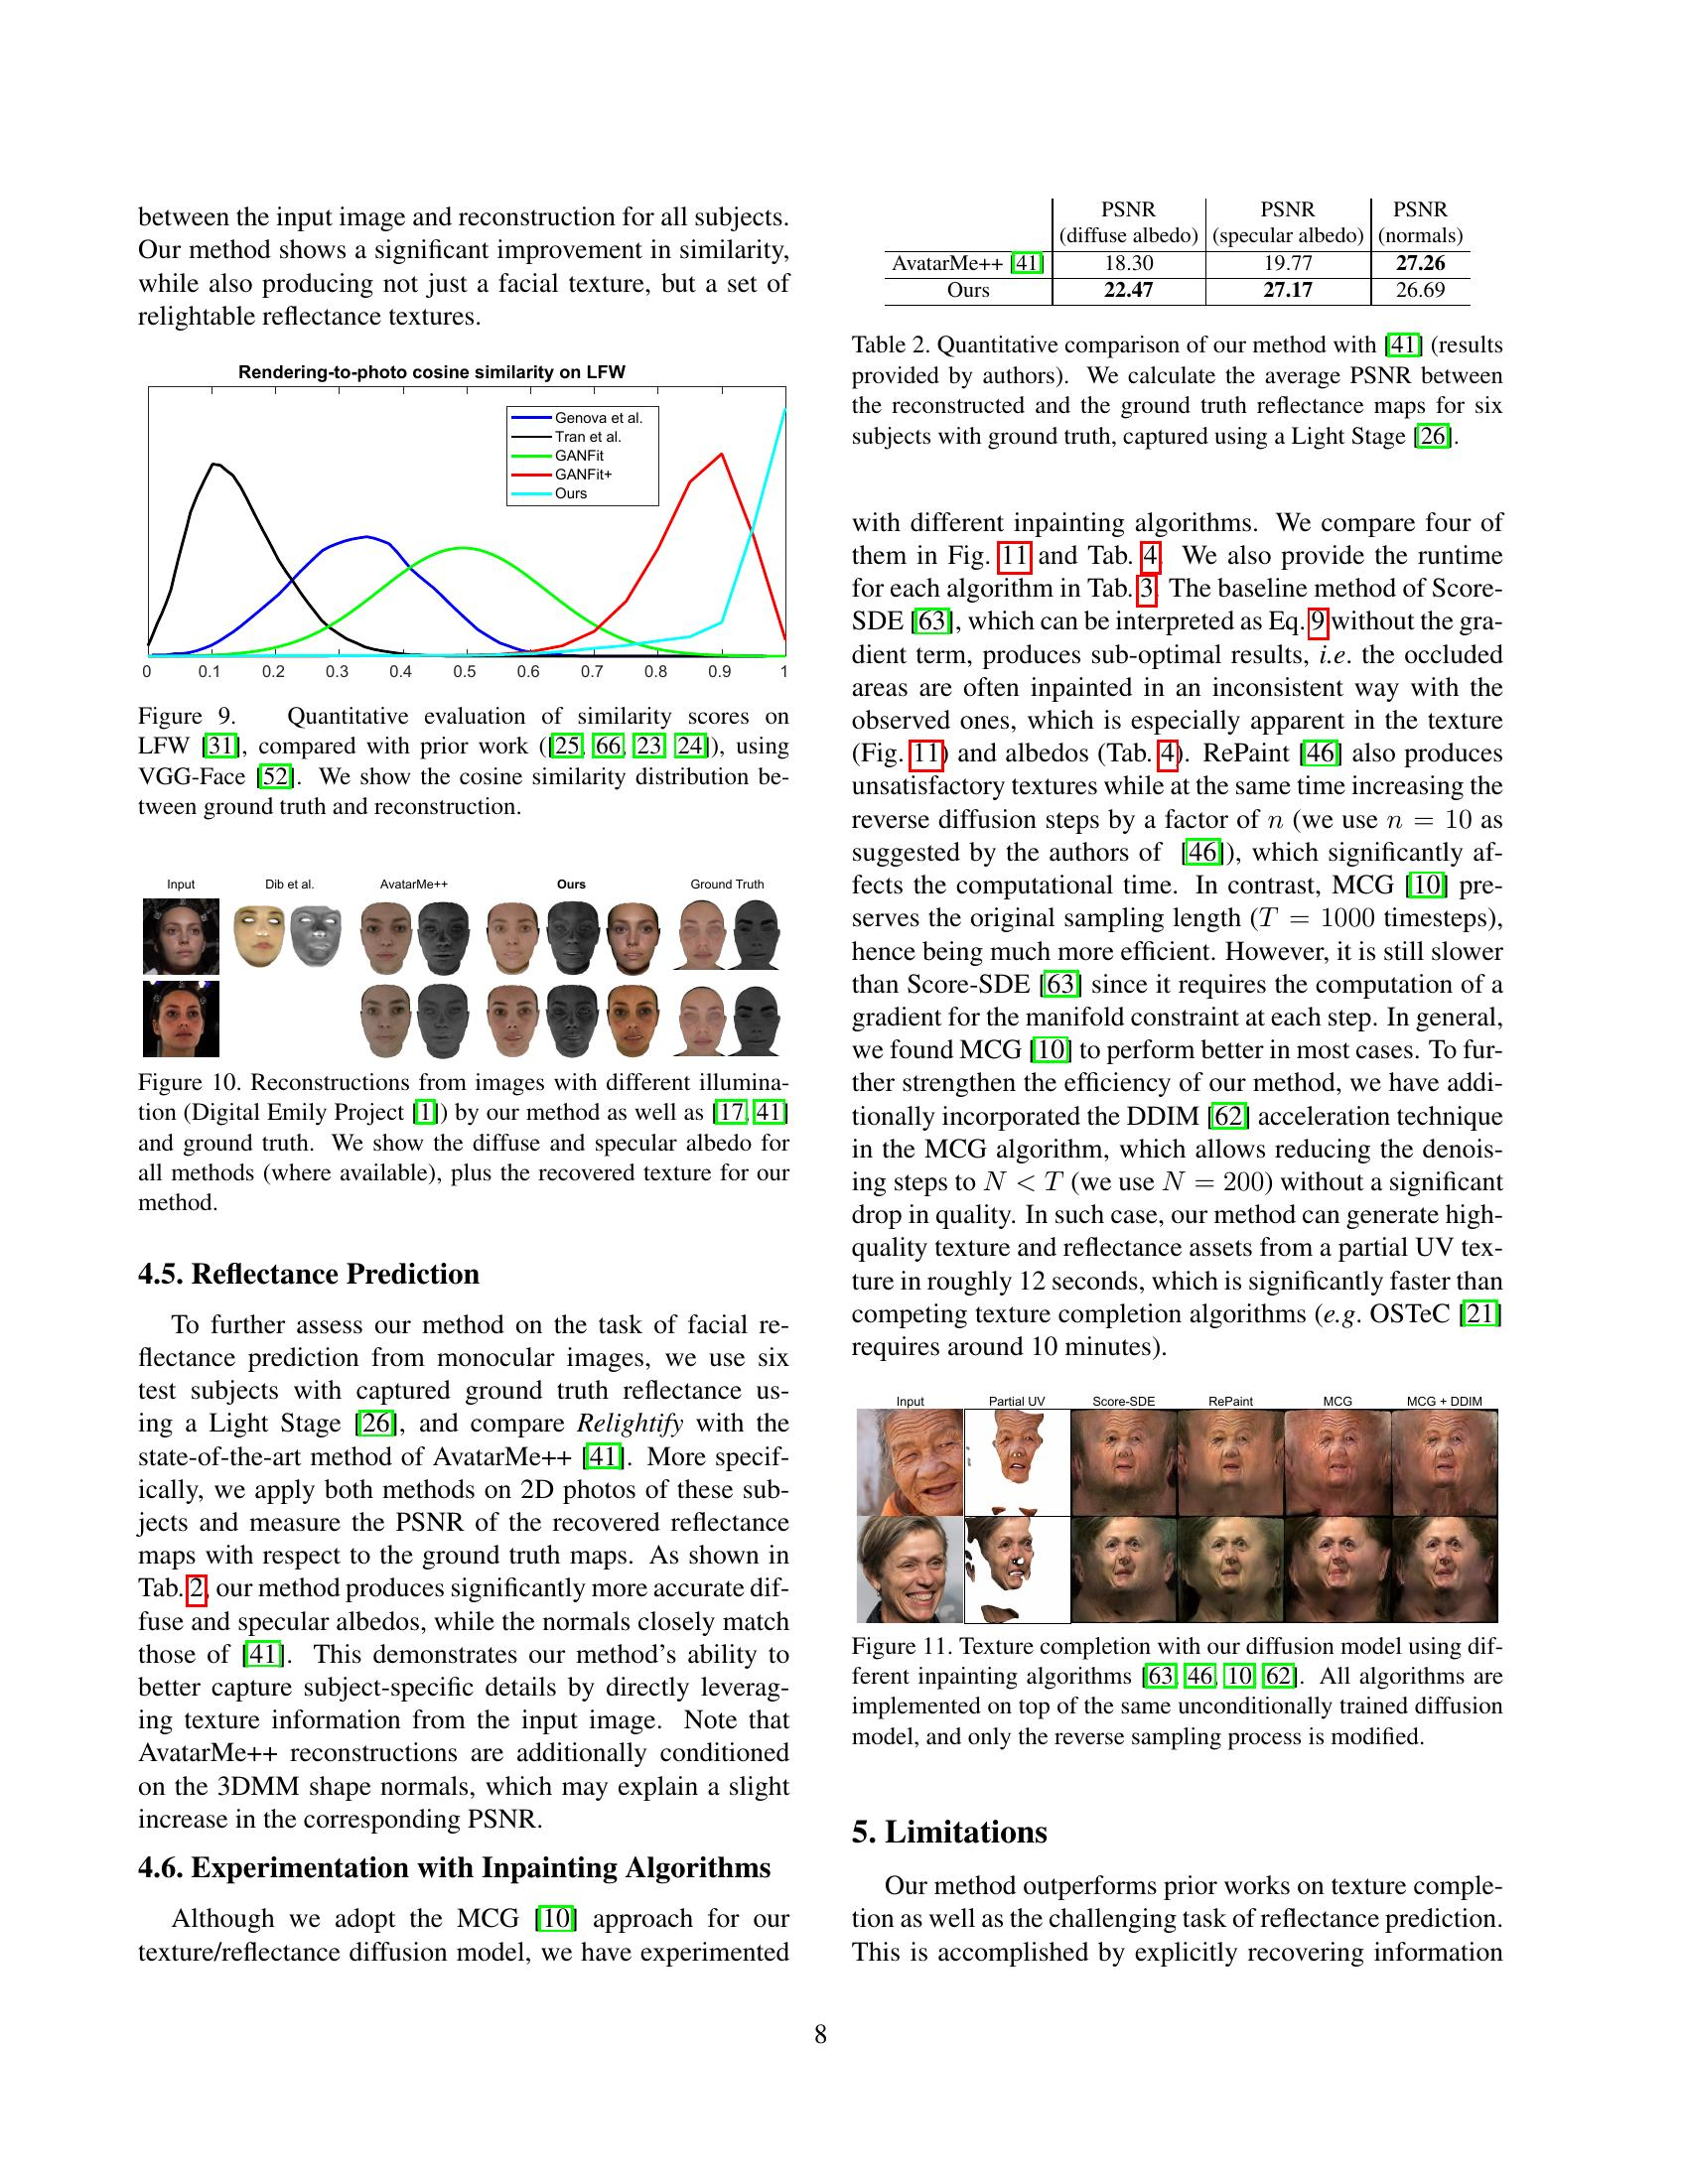figure: (131, 355, 798, 830), (844, 1390, 1512, 1757), (131, 863, 798, 1221)
table: (844, 186, 1512, 457)
text: (842, 503, 1512, 1367), (126, 1250, 798, 1973), (842, 1810, 1512, 1973), (128, 197, 798, 340)
